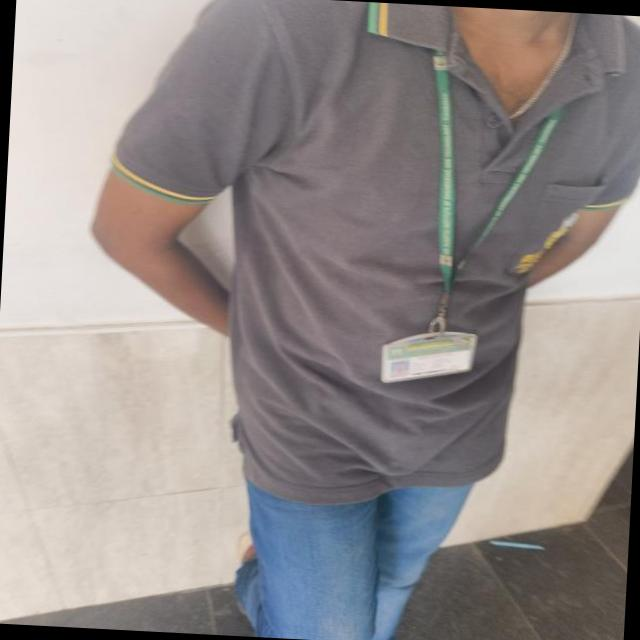id_card: (376, 45, 561, 388)
